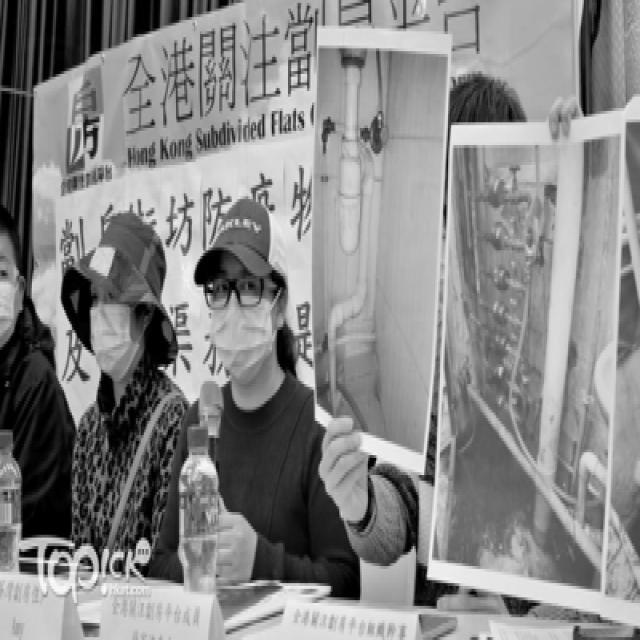Drinking: (178, 422, 218, 556)
